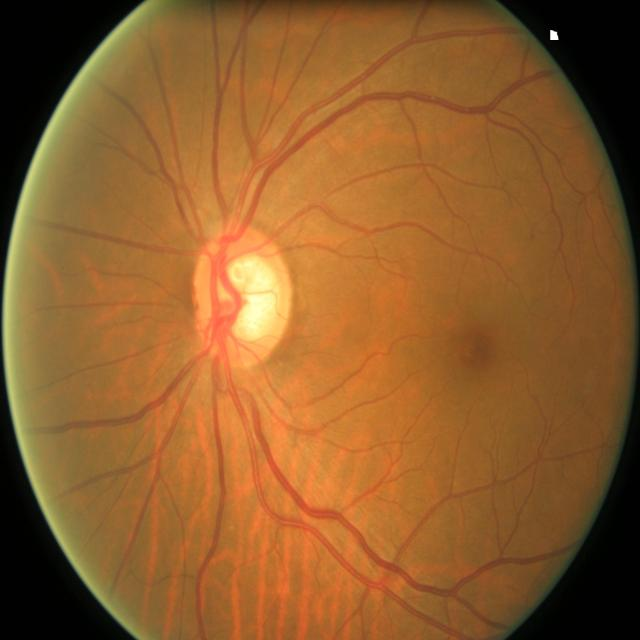OC: (212, 251, 281, 343)
OD: (188, 224, 292, 367)
